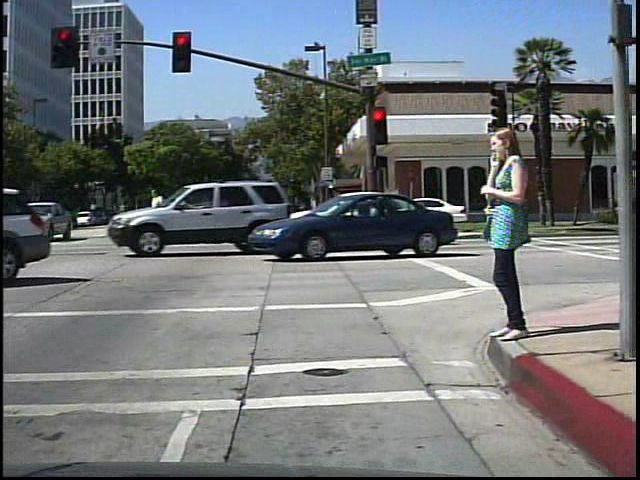person: (476, 117, 535, 347)
